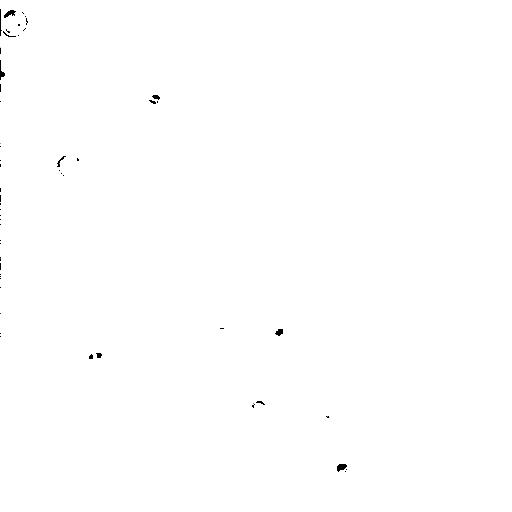micro-algae: (355, 187, 448, 277), (171, 76, 240, 145), (4, 238, 67, 306), (65, 339, 124, 399), (17, 382, 64, 433), (324, 447, 361, 487), (265, 308, 299, 343), (52, 148, 83, 180), (1, 4, 29, 38), (2, 49, 18, 82), (252, 394, 272, 418)
